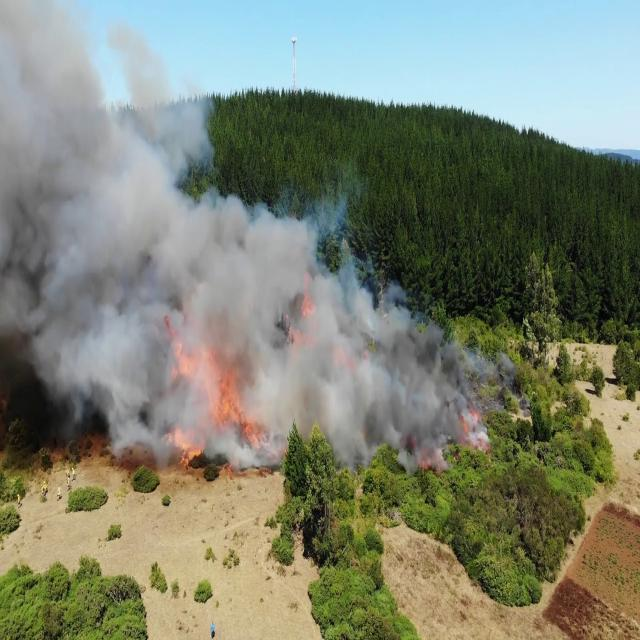Smoke: (2, 2, 225, 464), (211, 200, 501, 480)
